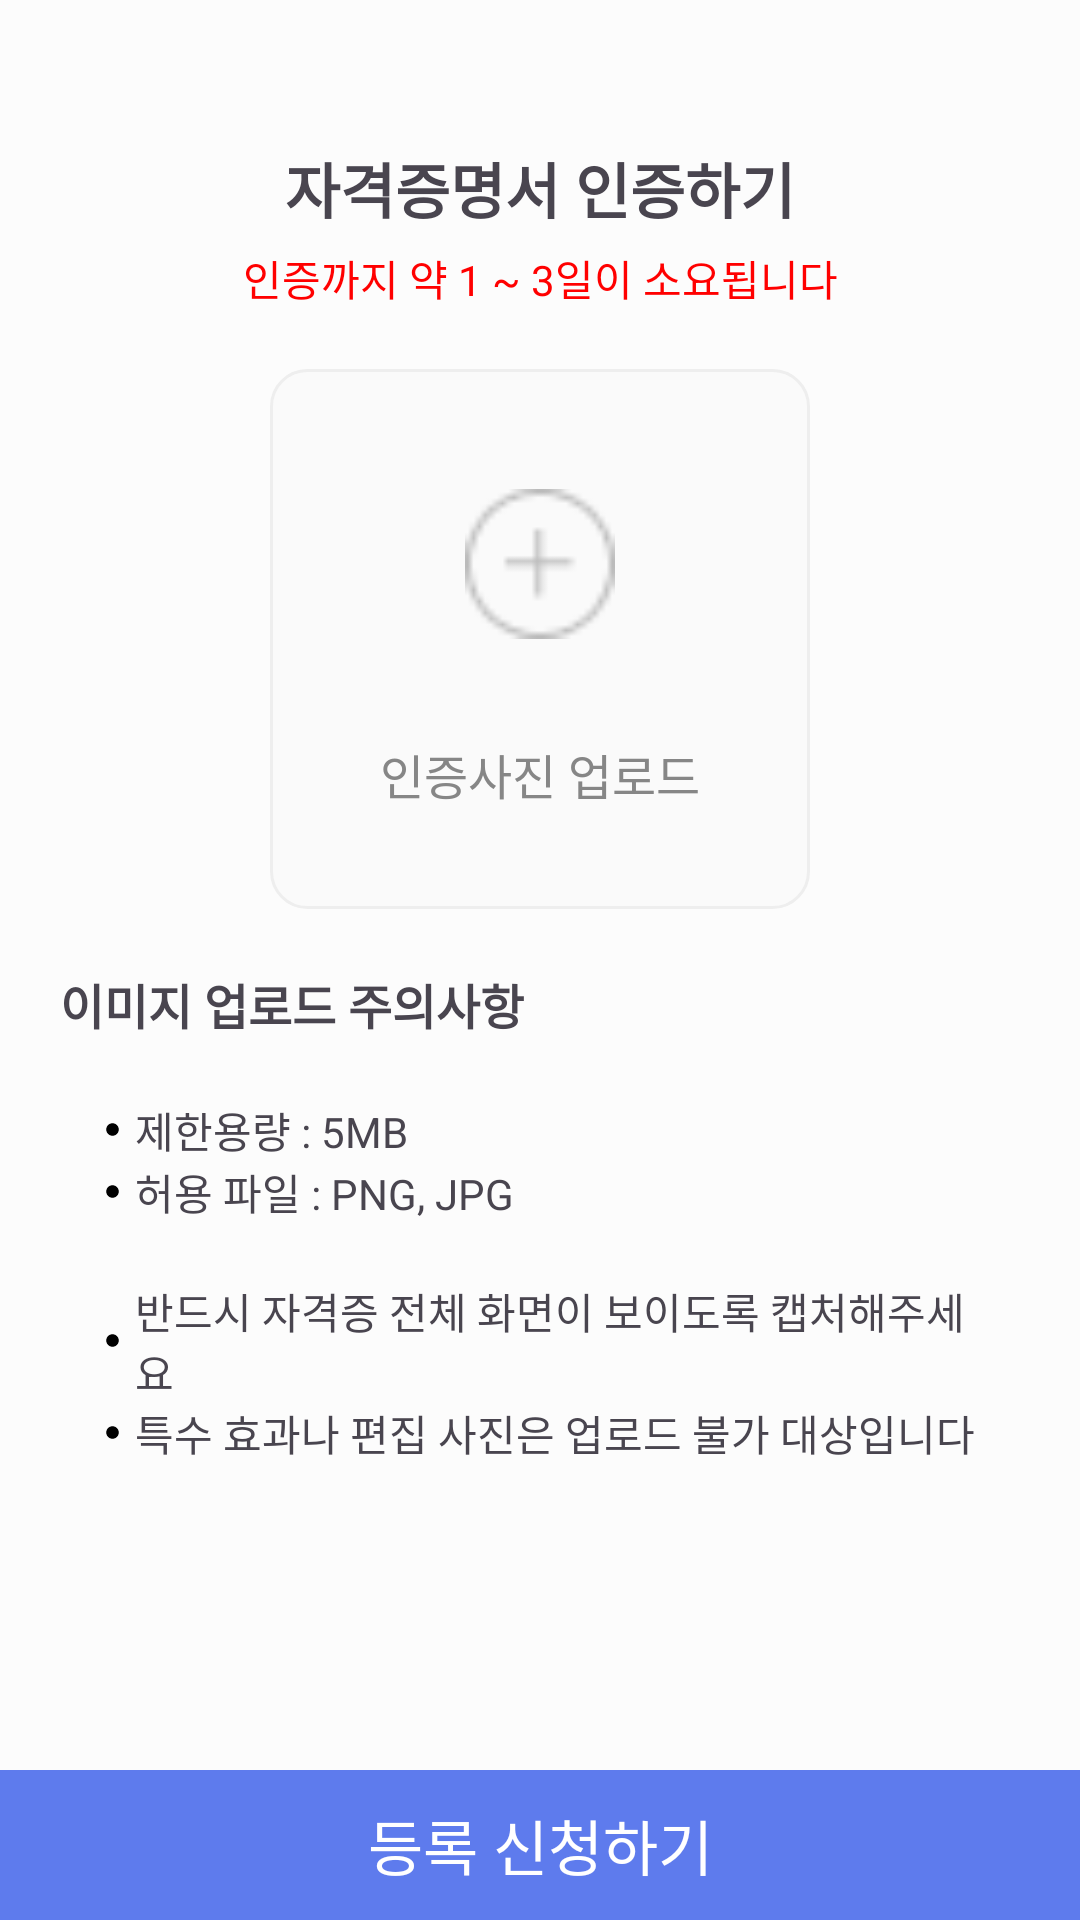

Named icons in this screenshot (1080px×1920px) and their centers, [x,y]:
add: [540,564]
